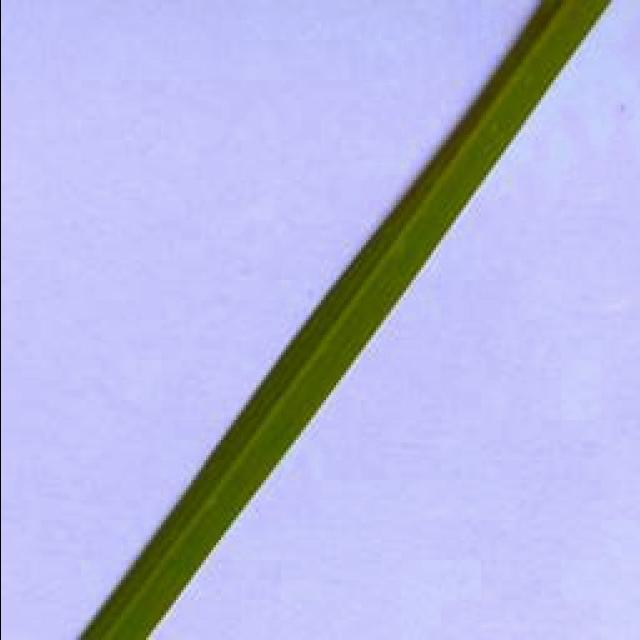Healthy: (78, 0, 610, 640)
